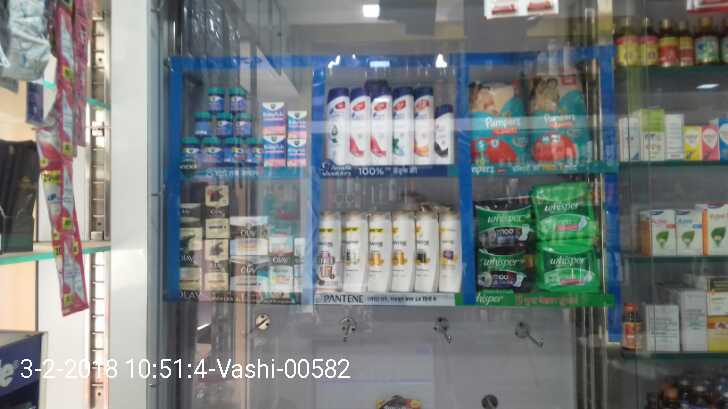beauty: (342, 209, 370, 293), (316, 208, 344, 289), (390, 205, 416, 291), (414, 203, 438, 292), (436, 207, 461, 289), (327, 85, 351, 165), (370, 78, 392, 165), (413, 84, 436, 165), (391, 84, 413, 165), (266, 234, 295, 293), (350, 86, 370, 164), (369, 210, 388, 291), (204, 181, 230, 239), (229, 217, 268, 255), (229, 255, 269, 292), (435, 102, 456, 166), (205, 238, 228, 291)
pharmacy: (525, 70, 589, 168), (466, 82, 535, 170), (531, 184, 598, 241), (532, 242, 600, 292), (474, 197, 538, 246), (477, 247, 530, 291), (233, 113, 256, 141), (191, 109, 212, 138), (206, 87, 224, 114), (229, 87, 247, 114)
